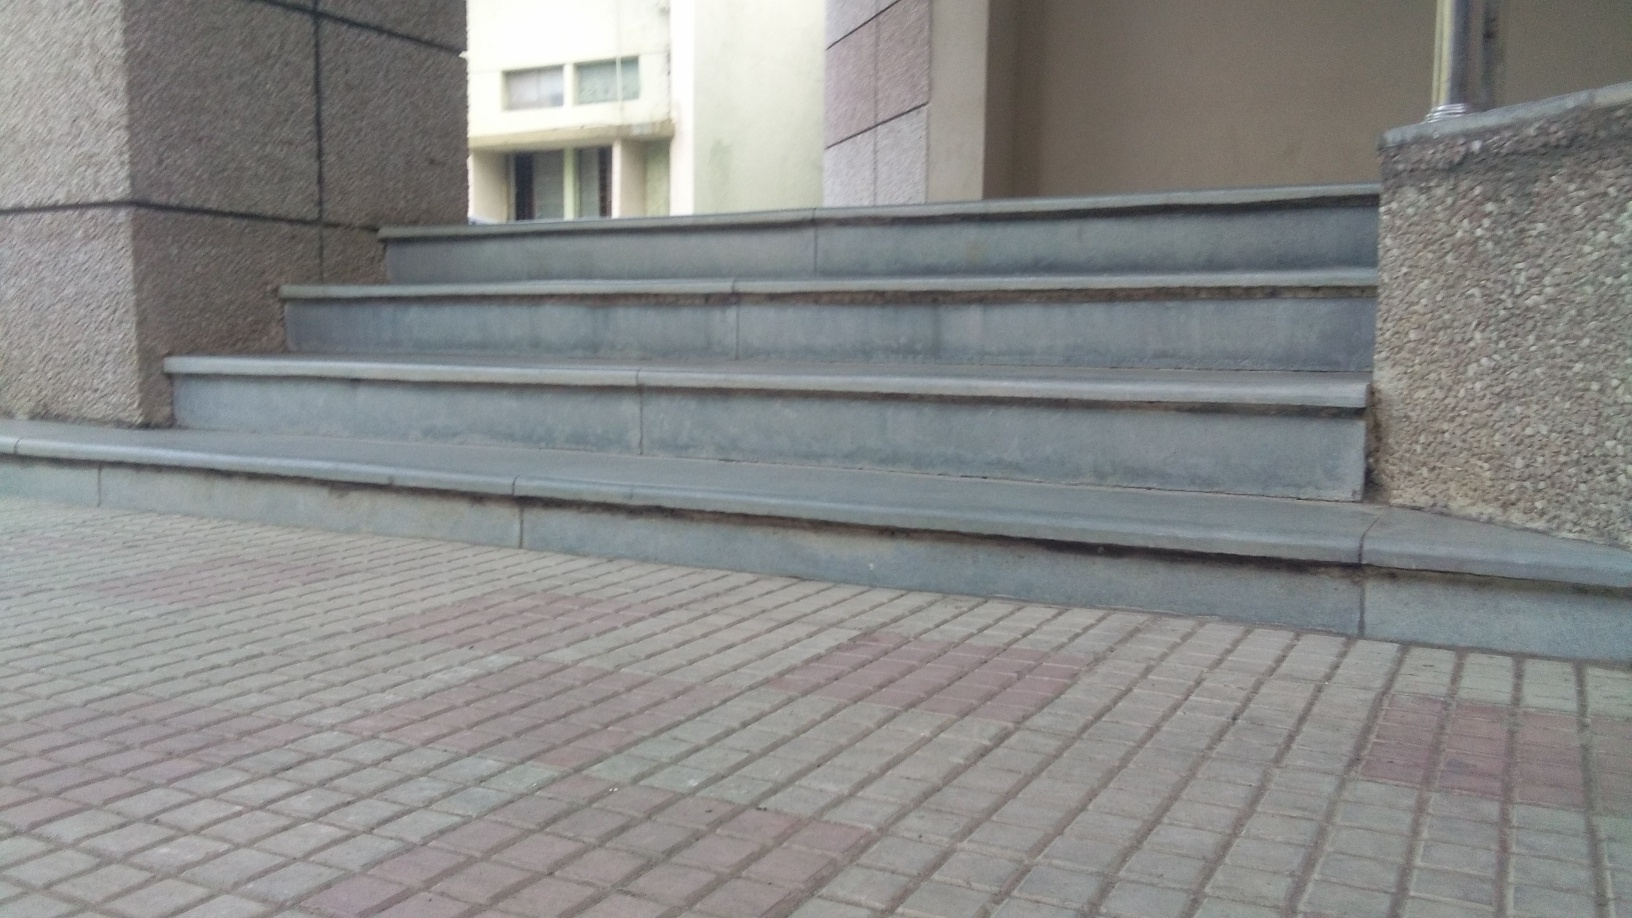stairs_up: (173, 185, 1375, 609)
